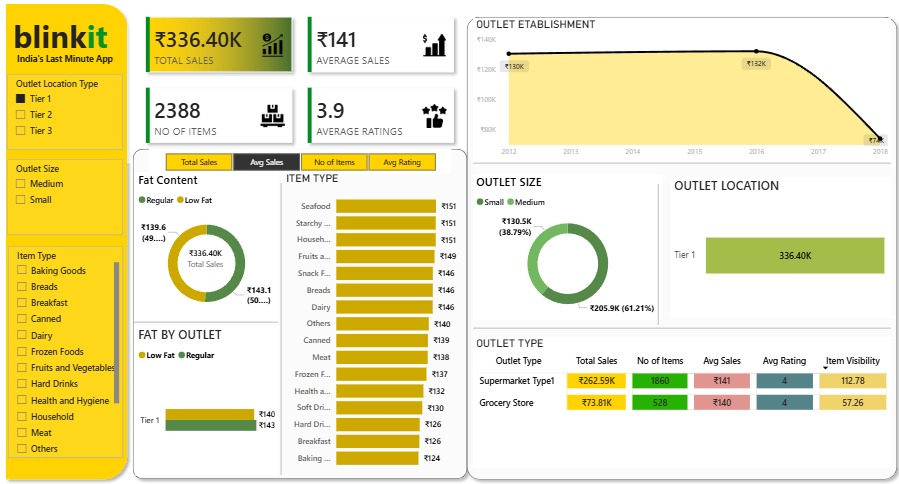

This screenshot's page, from the dashboard's own definition file:
{"tool":"powerbi","page":{"name":"Page 1","canvas":[1400,800],"ordinal":0},"visuals":[{"type":"shape","box":[10,0,205,750],"z":0},{"type":"textbox","box":[26.8,20.5,159.1,75.6],"z":1000},{"type":"textbox","box":[15.7,80.3,190.6,31.5],"z":2000},{"type":"cardVisual","fields":{"Data":["BlinkIT Grocery Data.Total Sales","BlinkIT Grocery Data.Avg Sales","BlinkIT Grocery Data.No of Items","BlinkIT Grocery Data.Avg Rating"]},"box":[206.3,0,532.3,253.5],"z":3000},{"type":"shape","box":[206.3,223.6,532.3,526],"z":4000},{"type":"donutChart","title":"Fat Content","fields":{"Y":["BlinkIT Grocery Data.Total Sales"],"Category":["BlinkIT Grocery Data.Item Fat Content"]},"box":[218.3,268.3,220,230],"z":5000},{"type":"slicer","fields":{"Values":["Metrics 3.Metrics"]},"box":[239.4,233.1,464.6,39.4],"z":6000},{"type":"cardVisual","fields":{"Data":["BlinkIT Grocery Data.Total Sales"]},"box":[268.3,365,118.3,71.7],"z":7000},{"type":"clusteredBarChart","title":"FAT BY OUTLET","fields":{"Y":["BlinkIT Grocery Data.Total Sales"],"Category":["BlinkIT Grocery Data.Outlet Location Type"],"Series":["BlinkIT Grocery Data.Item Fat Content"]},"box":[218.9,503.9,220.5,229.9],"z":8000},{"type":"shape","box":[216.7,455,221.7,86.7],"z":9000},{"type":"shape","box":[434.6,285,15.7,448.8],"z":10000},{"type":"barChart","title":"ITEM TYPE","fields":{"Y":["BlinkIT Grocery Data.Total Sales"],"Category":["BlinkIT Grocery Data.Item Type"]},"box":[445.7,267.7,274,466.1],"z":11000},{"type":"shape","box":[720,20,680,730],"z":12000},{"type":"lineChart","title":"OUTLET ETABLISHMENT","fields":{"Y":["BlinkIT Grocery Data.Total Sales"],"Category":["BlinkIT Grocery Data.Outlet Establishment Year"]},"box":[738.3,30,643.3,223.3],"z":13000},{"type":"donutChart","title":"OUTLET SIZE","fields":{"Y":["BlinkIT Grocery Data.Total Sales"],"Category":["BlinkIT Grocery Data.Outlet Size"]},"box":[738.3,270,291.7,225],"z":14000},{"type":"shape","box":[1016.7,286.7,13.3,216.7],"z":15000},{"type":"funnel","title":"OUTLET LOCATION","fields":{"Category":["BlinkIT Grocery Data.Outlet Location Type"],"Y":["Sum(BlinkIT Grocery Data.Sales)"]},"box":[1043.3,275,338.3,216.7],"z":16000},{"type":"shape","box":[738.3,465,643.3,86.7],"z":17000},{"type":"pivotTable","title":"OUTLET TYPE","fields":{"Rows":["BlinkIT Grocery Data.Outlet Type"],"Values":["BlinkIT Grocery Data.Total Sales","BlinkIT Grocery Data.No of Items","BlinkIT Grocery Data.Avg Sales","BlinkIT Grocery Data.Avg Rating","Sum(BlinkIT Grocery Data.Item Visibility)"]},"box":[738.3,521.7,643.3,201.7],"z":18000},{"type":"shape","box":[738.3,210,643.3,86.7],"z":19000},{"type":"slicer","fields":{"Values":["BlinkIT Grocery Data.Outlet Location Type"]},"box":[21.7,116.7,178.3,116.7],"z":20000},{"type":"slicer","fields":{"Values":["BlinkIT Grocery Data.Outlet Size"]},"box":[21.7,248.3,178.3,116.7],"z":21000},{"type":"slicer","fields":{"Values":["BlinkIT Grocery Data.Item Type"]},"box":[23.3,381.7,176.7,341.7],"z":22000}]}

Visuals, with their boxes on the page's 1400x800 design canvas (x1, y1, x2, y2). These are canvas units, not pixel positions in the 899x484 screenshot, which may show the page scaled, cropped or inside an application window:
shape: 10, 0, 215, 750
textbox: 27, 20, 186, 96
textbox: 16, 80, 206, 112
cardVisual - BlinkIT Grocery Data.Total Sales x BlinkIT Grocery Data.Avg Sales: 206, 0, 739, 254
shape: 206, 224, 739, 750
"Fat Content" donutChart: 218, 268, 438, 498
slicer - Metrics 3.Metrics: 239, 233, 704, 272
cardVisual - BlinkIT Grocery Data.Total Sales: 268, 365, 387, 437
"FAT BY OUTLET" clusteredBarChart: 219, 504, 439, 734
shape: 217, 455, 438, 542
shape: 435, 285, 450, 734
"ITEM TYPE" barChart: 446, 268, 720, 734
shape: 720, 20, 1400, 750
"OUTLET ETABLISHMENT" lineChart: 738, 30, 1382, 253
"OUTLET SIZE" donutChart: 738, 270, 1030, 495
shape: 1017, 287, 1030, 503
"OUTLET LOCATION" funnel: 1043, 275, 1382, 492
shape: 738, 465, 1382, 552
"OUTLET TYPE" pivotTable: 738, 522, 1382, 723
shape: 738, 210, 1382, 297
slicer - BlinkIT Grocery Data.Outlet Location Type: 22, 117, 200, 233
slicer - BlinkIT Grocery Data.Outlet Size: 22, 248, 200, 365
slicer - BlinkIT Grocery Data.Item Type: 23, 382, 200, 723
